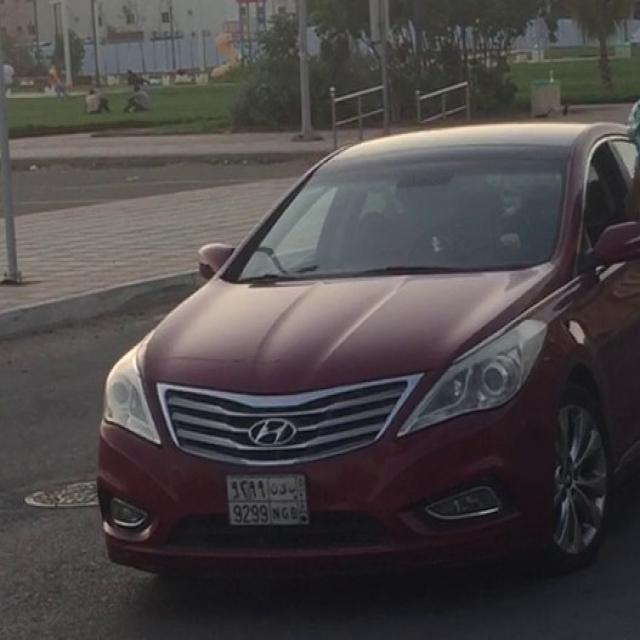Car-plate: (221, 469, 326, 540)
